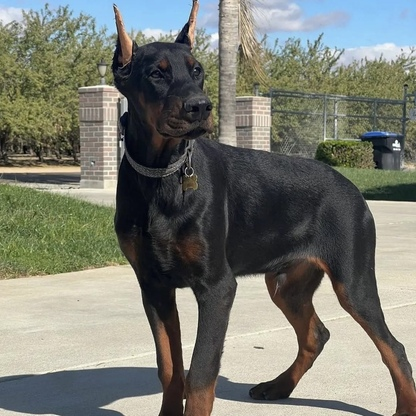doberman: (106, 6, 416, 410)
